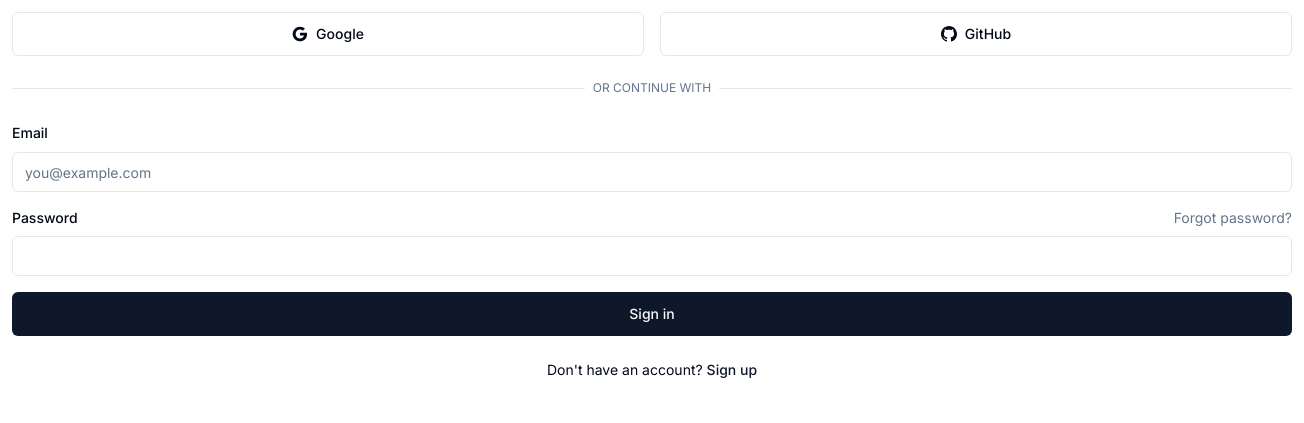
Test: LoginForm › Inline Validation › shows inline error for invalid email format on blur
Type "invalid-email" into the field with test id "email" at (652, 172), box [12,152,1292,192]
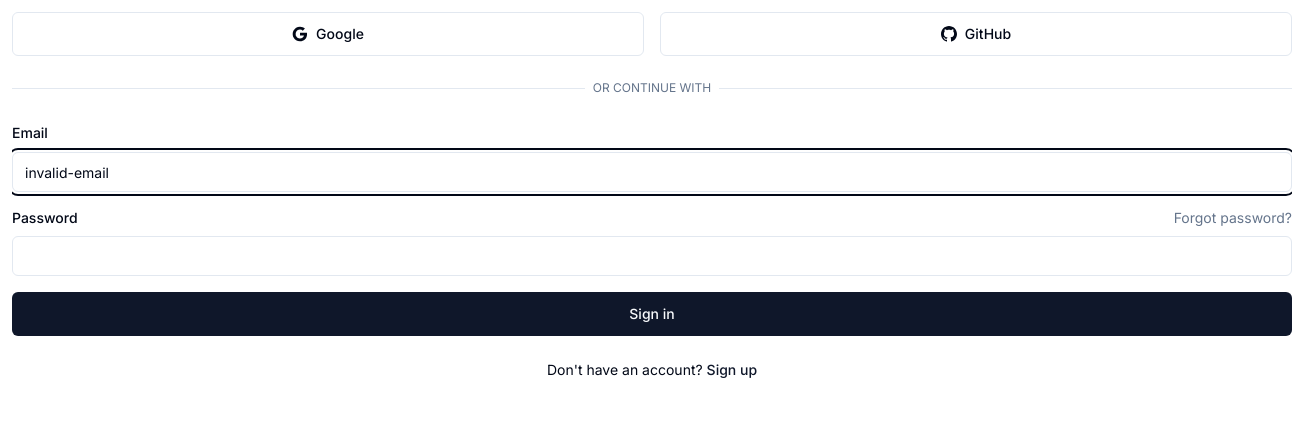
Press Tab
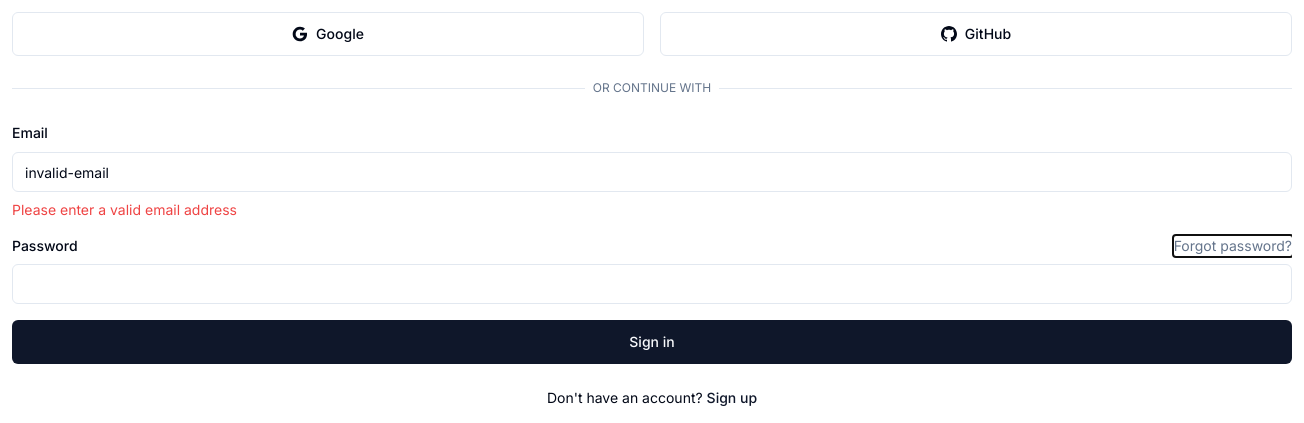
Now the text "Please enter a valid email address" is shown, box [12,201,237,218]
